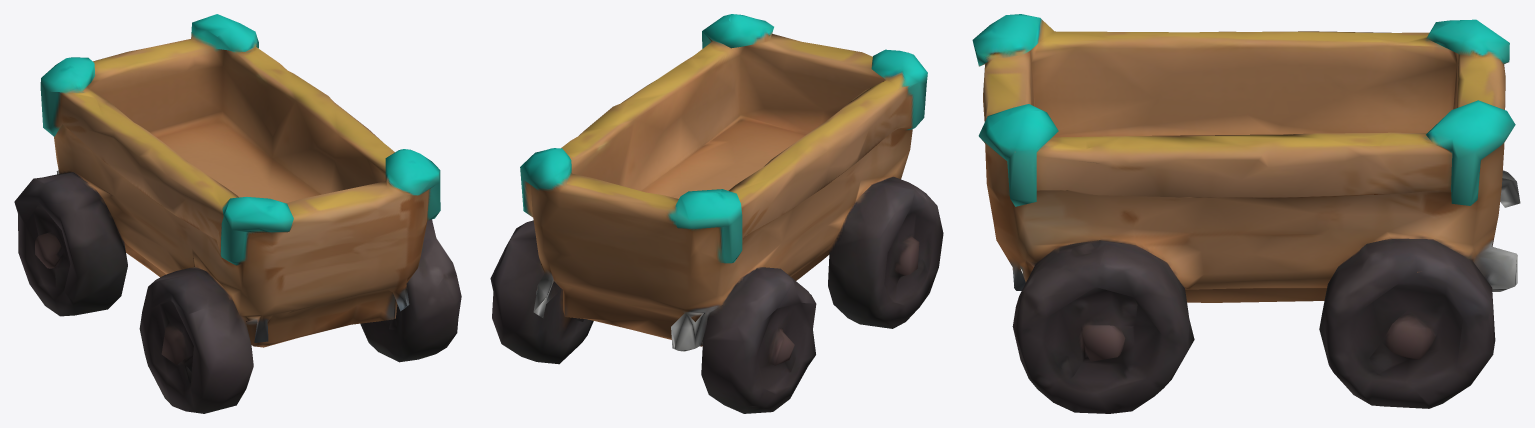
Rendered from textures.glb.
3 views of the same model, side by side, from view 1: azimuth 30°, elevation 25°; view 2: azimuth 150°, elevation 25°; view 3: azimuth 270°, elevation 25° (orthographic). The views are drawn at different scales.
Visible parts, largest first — view 1: tripo_node_95ce4c13-1613-45c8-8ef5-01503ce0530b; view 2: tripo_node_95ce4c13-1613-45c8-8ef5-01503ce0530b; view 3: tripo_node_95ce4c13-1613-45c8-8ef5-01503ce0530b.
Part boxes in pixels (left/top/right/bottom): tripo_node_95ce4c13-1613-45c8-8ef5-01503ce0530b: left=14, top=14, right=461, bottom=413; tripo_node_95ce4c13-1613-45c8-8ef5-01503ce0530b: left=490, top=14, right=943, bottom=413; tripo_node_95ce4c13-1613-45c8-8ef5-01503ce0530b: left=972, top=14, right=1520, bottom=413.
Bounding box in the file's own units: 0.6868 × 0.5794 × 1.
1 material, 1 textured.
